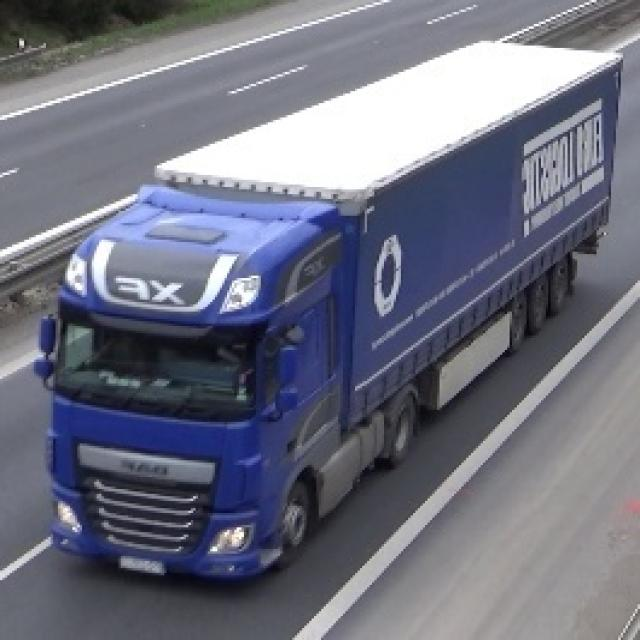TRUCK: (38, 28, 621, 594)
